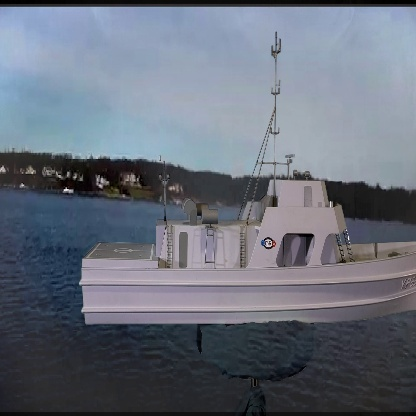YP689: (78, 28, 416, 326)
